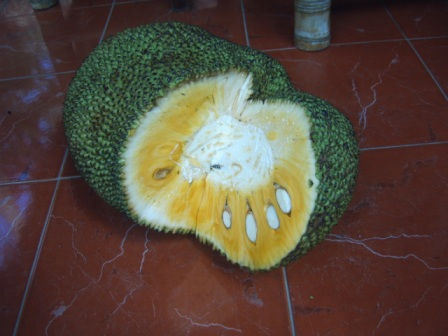jackfruit: (63, 21, 361, 273)
